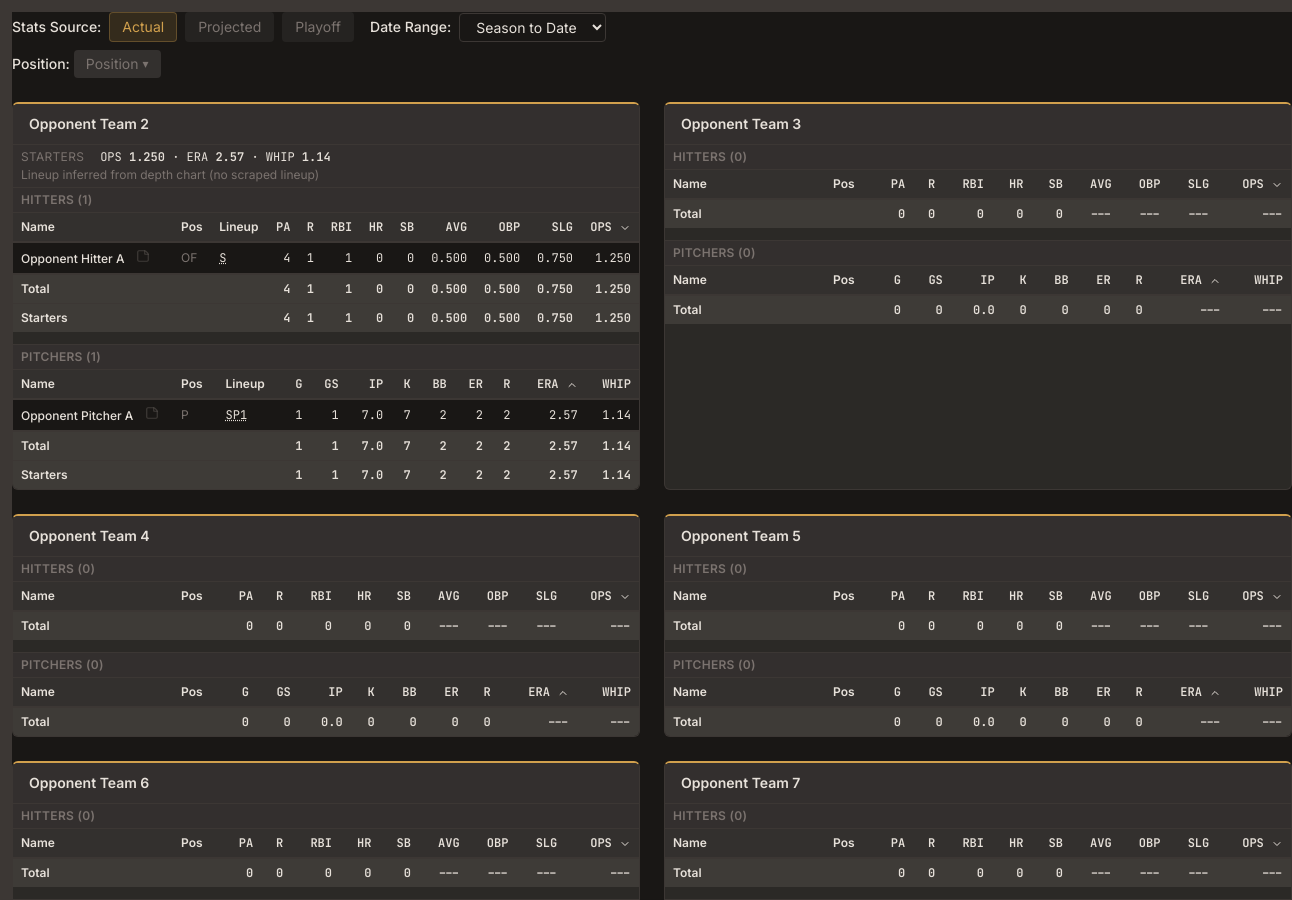
Scenario: OpponentsGrid › shows matching pitchers when P position is selected
Note: Open Position dropdown and select "P"
Click the button "Position ▾": point(117, 64) [74,50,160,78]
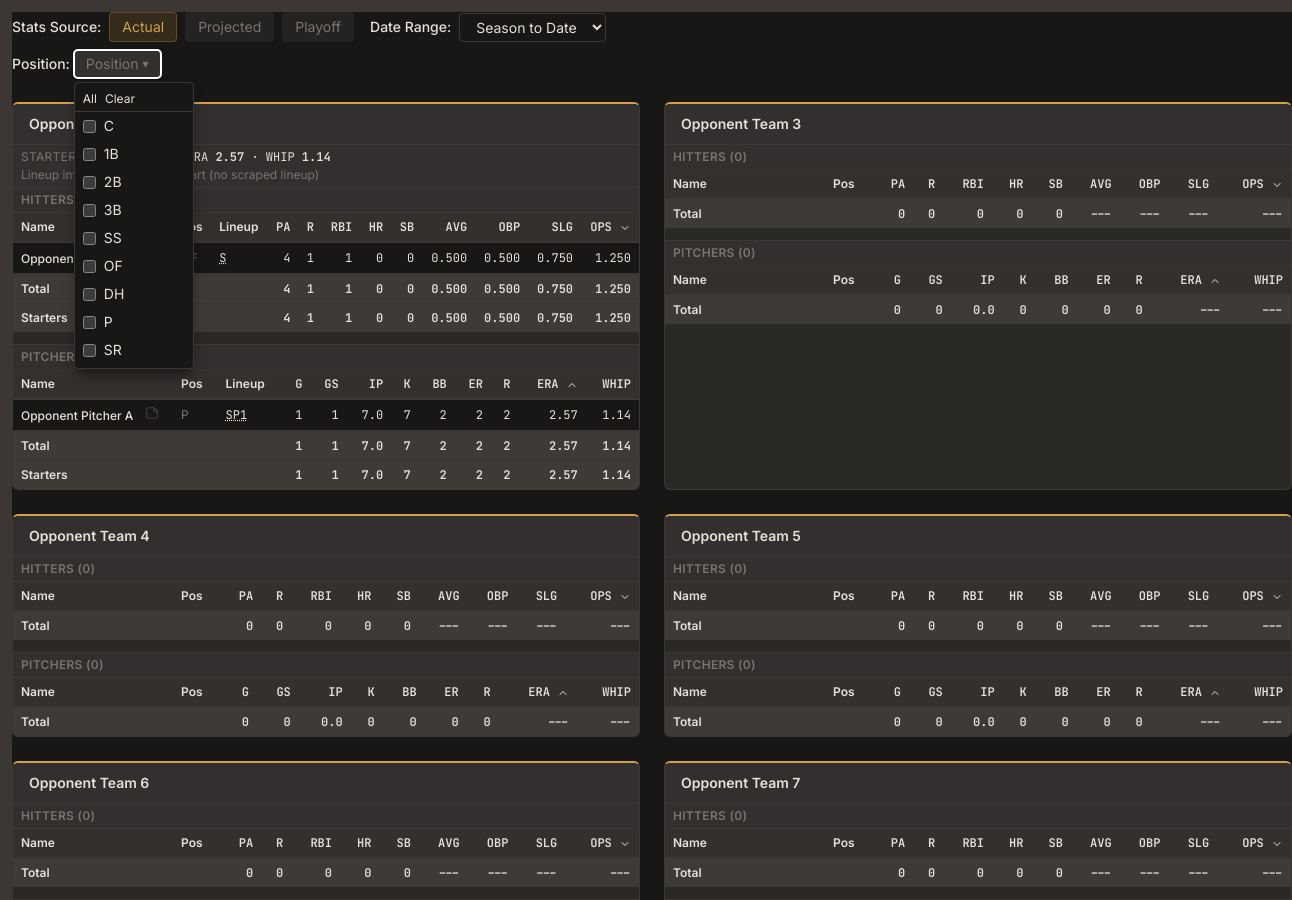
Click the checkbox labelled "P": point(89, 322) [83,316,96,328]
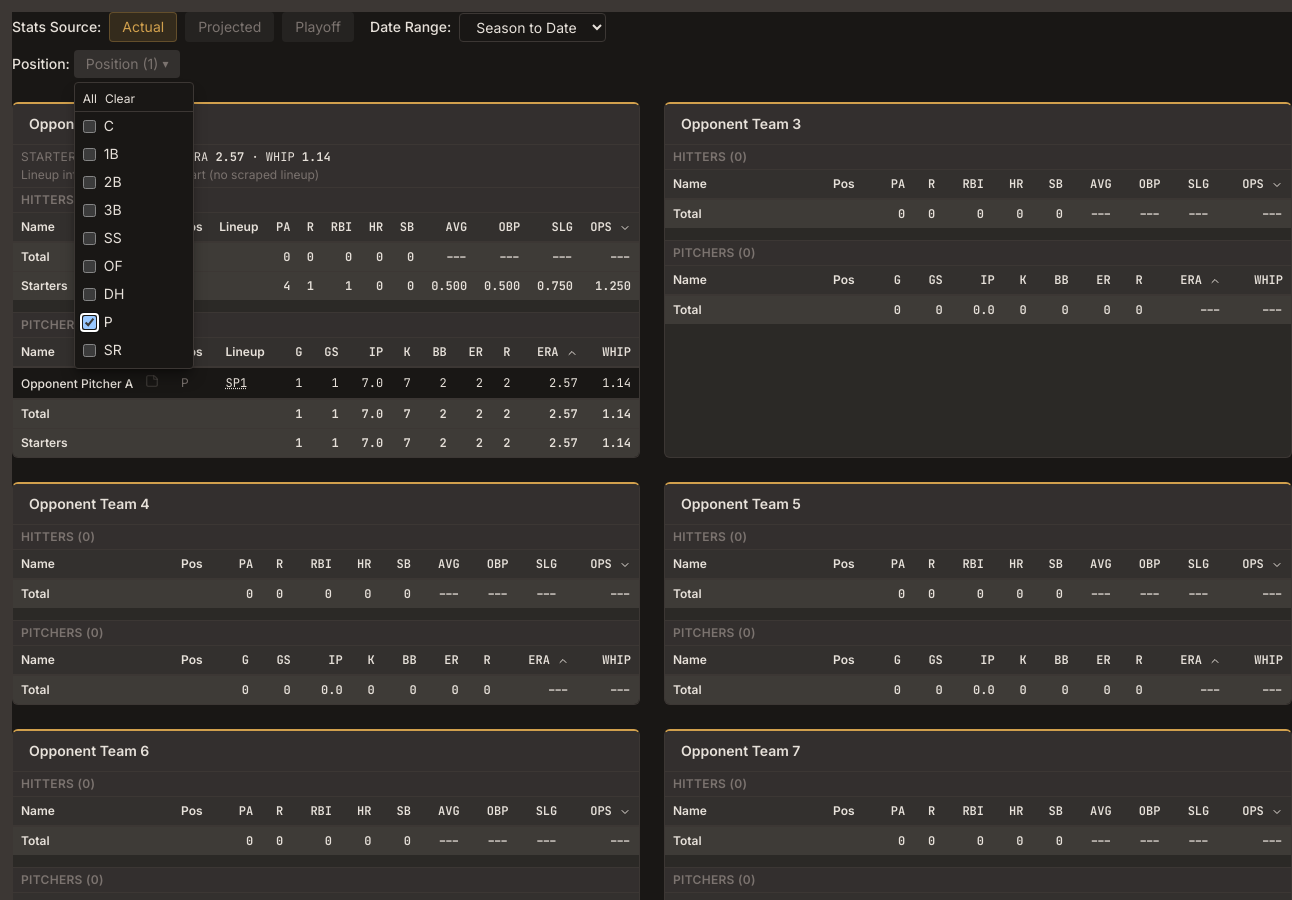
Expected: the link "Opponent Pitcher A" is shown, [21,376,133,391]
Result: the link "Opponent Hitter A" is gone
